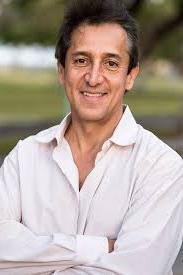Sober: (68, 24, 122, 119)
